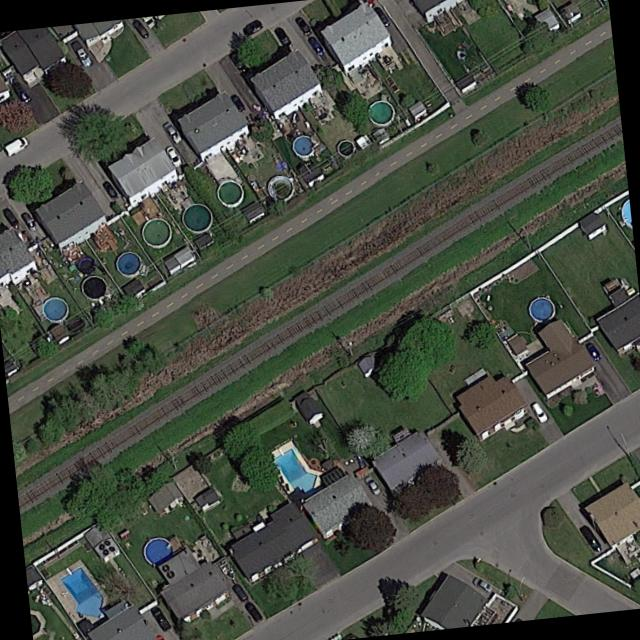ship: (215, 558, 237, 582)
small-vehicle: (577, 525, 603, 554), (2, 134, 31, 158), (148, 606, 171, 632), (271, 25, 293, 50), (160, 121, 183, 144), (8, 81, 29, 104), (163, 145, 183, 169), (242, 602, 263, 624), (306, 35, 326, 58), (529, 402, 549, 424), (99, 179, 119, 201), (130, 18, 150, 39), (361, 475, 381, 496), (293, 15, 312, 37), (74, 46, 93, 68), (229, 583, 249, 603), (0, 207, 19, 228), (470, 576, 492, 594), (20, 210, 38, 232), (240, 20, 263, 37), (227, 93, 246, 113), (584, 341, 602, 361), (152, 634, 165, 640)
storage-tank: (178, 200, 215, 237), (137, 215, 173, 251), (214, 176, 246, 211), (110, 248, 144, 280), (38, 294, 70, 325), (265, 174, 297, 204), (366, 98, 397, 128), (78, 274, 109, 303), (289, 131, 318, 161), (333, 136, 358, 159), (71, 254, 96, 276)
